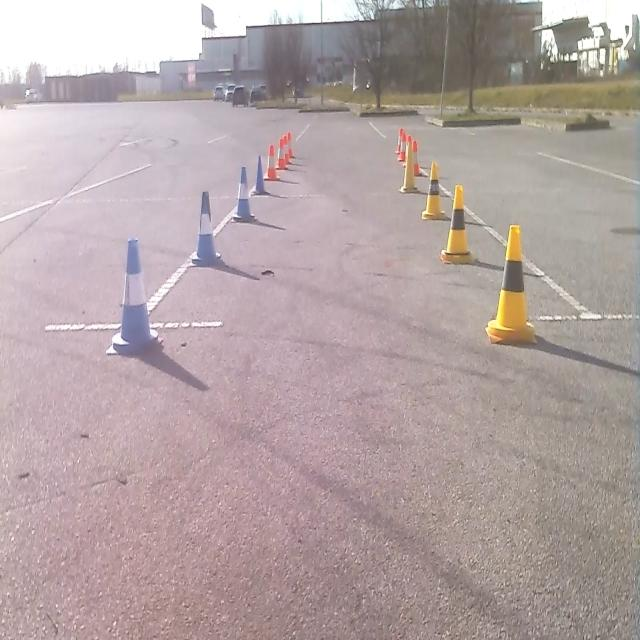blue_cone: (109, 234, 159, 356), (192, 189, 222, 265), (231, 164, 256, 223), (250, 154, 268, 195)
orange_cone: (263, 143, 279, 181), (408, 140, 421, 180), (276, 136, 288, 168), (396, 128, 406, 162), (286, 129, 294, 158)
yellow_cone: (485, 222, 536, 345), (440, 183, 474, 264), (422, 160, 446, 220), (399, 138, 417, 192)
